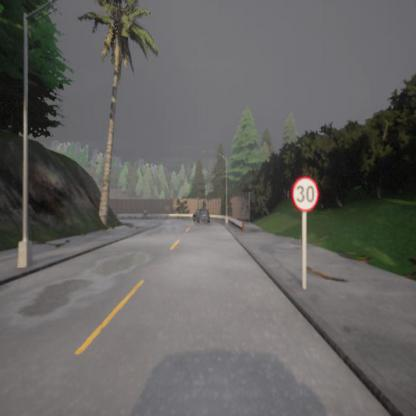traffic_sign_30: (292, 178, 318, 212)
vehicle: (192, 209, 210, 224)
